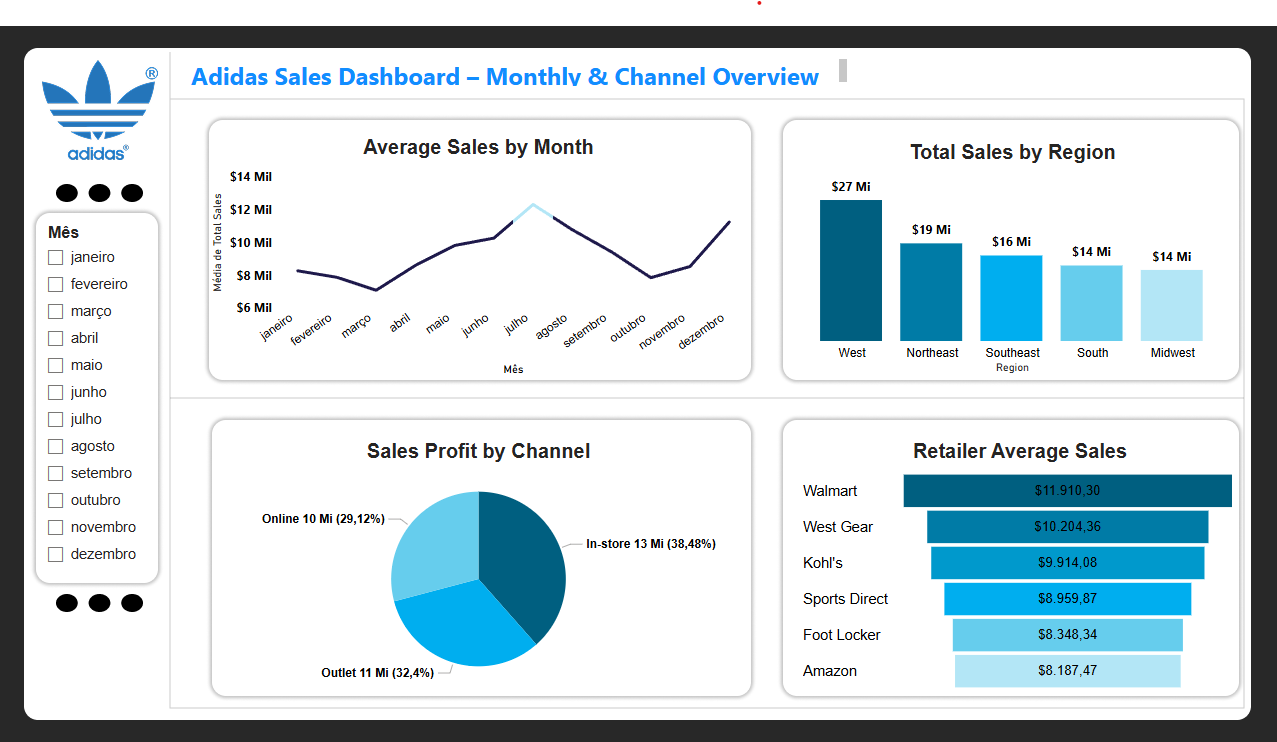

This screenshot's page, from the dashboard's own definition file:
{"tool":"powerbi","page":{"name":"Página 1","canvas":[1280,720],"ordinal":0},"visuals":[{"type":"columnChart","title":"Total Sales by Region","fields":{"Category":["Dados_Limpo_adidas.Region"],"Y":["Medidas.Total"]},"box":[784.9,97.3,459.1,258.7],"z":0},{"type":"pieChart","title":"Sales Profit by Channel","fields":{"Category":["Dados_Limpo_adidas.Sales Method"],"Y":["Medidas.lucro"]},"box":[209.1,395.9,542.7,276.2],"z":2},{"type":"funnel","title":"Retailer Average Sales","fields":{"Category":["Dados_Limpo_adidas.Retailer"],"Y":["Medidas.Média"]},"box":[785,396,459,276],"z":3},{"type":"slicer","fields":{"Values":["Dados_Limpo_adidas.Invoice Date.Variation.Hierarquia de datas.Mês"]},"box":[37,195,130,375],"z":4},{"type":"lineChart","title":"Average Sales by Month","fields":{"Category":["Dados_Limpo_adidas.Invoice Date.Variation.Hierarquia de datas.Mês"],"Y":["Avg(Dados_Limpo_adidas.Total Sales)"]},"box":[209.1,92.4,542.7,263.6],"z":5},{"type":"textbox","box":[188,30,666,37],"z":6}]}

Visuals, with their boxes on the page's 1280x720 design canvas (x1, y1, x2, y2). These are canvas units, not pixel positions in the 1277x742 screenshot, which may show the page scaled, cropped or inside an application window:
"Total Sales by Region" columnChart: l=785, t=97, r=1244, b=356
"Sales Profit by Channel" pieChart: l=209, t=396, r=752, b=672
"Retailer Average Sales" funnel: l=785, t=396, r=1244, b=672
slicer - Dados_Limpo_adidas.Invoice Date.Variation.Hierarquia de datas.Mês: l=37, t=195, r=167, b=570
"Average Sales by Month" lineChart: l=209, t=92, r=752, b=356
textbox: l=188, t=30, r=854, b=67
